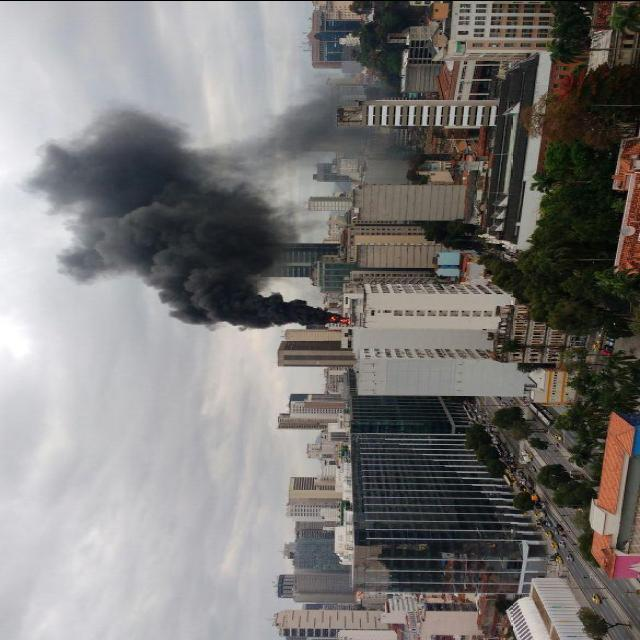Fire: (329, 313, 350, 321)
